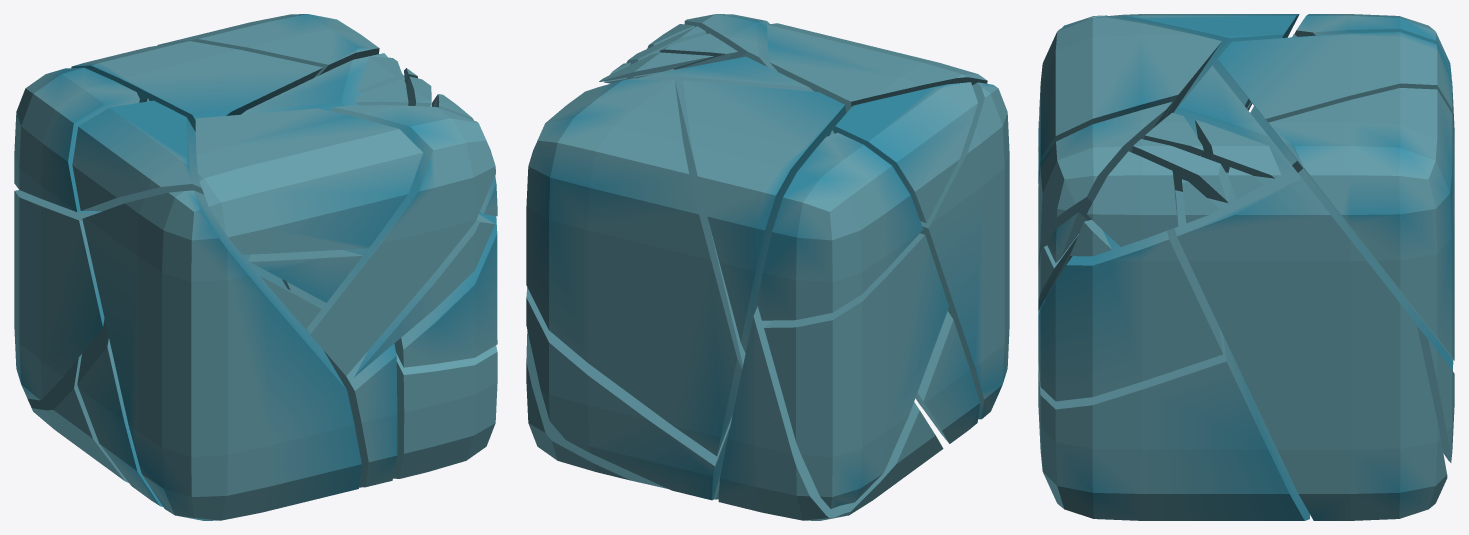
File: iceCube0.fbx
The picture shows the model from 3 angles, left to right: view 1: azimuth 30°, elevation 25°; view 2: azimuth 150°, elevation 25°; view 3: azimuth 270°, elevation 25°; orthographic projection. The views are drawn at different scales.
Parts seen in each view (by area): view 1: cube_20HP.001; view 2: cube_20HP.001; view 3: cube_20HP.001.
Boxes of the visible parts, x1,y1,x2,y2 form: cube_20HP.001: (14, 14, 497, 520); cube_20HP.001: (526, 14, 1009, 520); cube_20HP.001: (1038, 14, 1454, 520).
Bounding box in the file's own units: 100 × 100 × 100.
